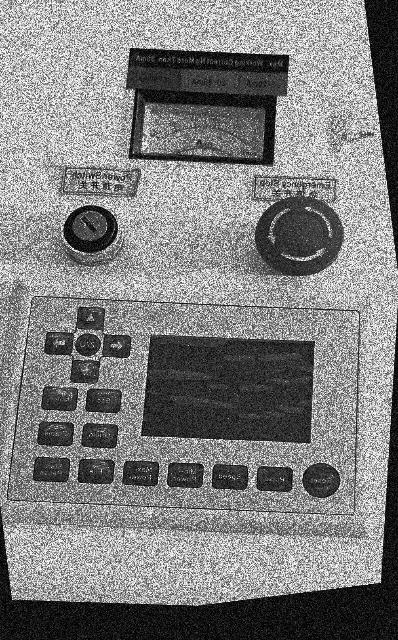Amp_Meter: (130, 91, 266, 161)
Display: (142, 336, 314, 443)
Down_button: (71, 359, 100, 383)
Emergency_Stop: (256, 196, 344, 276)
Enter_button: (42, 387, 78, 410)
Esc_button: (86, 389, 121, 412)
File_button: (78, 459, 115, 483)
Frame_button: (37, 422, 74, 446)
Left_button: (102, 334, 131, 357)
Max-Power_button: (123, 461, 158, 485)
Min-Power_button: (167, 463, 203, 487)
Origin_button: (81, 423, 117, 447)
Power_switch: (63, 204, 123, 266)
Pulse_button: (257, 467, 292, 491)
Reset_button: (303, 463, 340, 498)
Right_button: (45, 332, 73, 354)
Speed_button: (211, 464, 248, 488)
Start-Pause_button: (33, 457, 70, 481)
Up_button: (76, 307, 105, 329)
Z_U_button: (76, 333, 100, 356)
